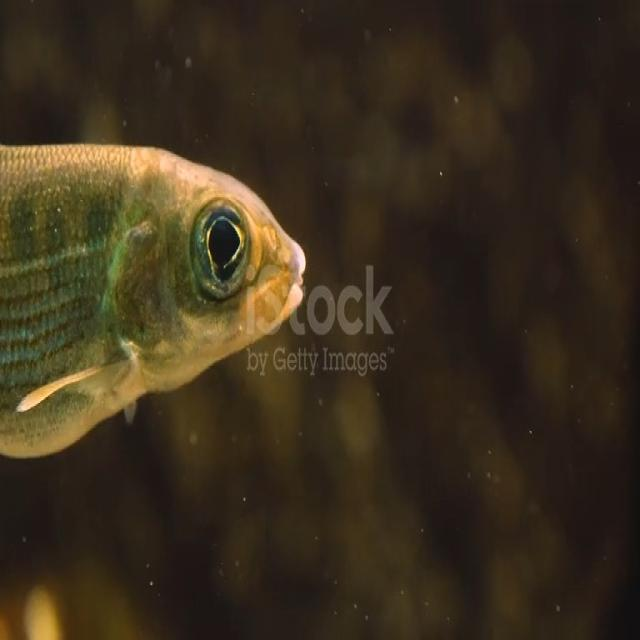fish: (0, 136, 312, 465)
